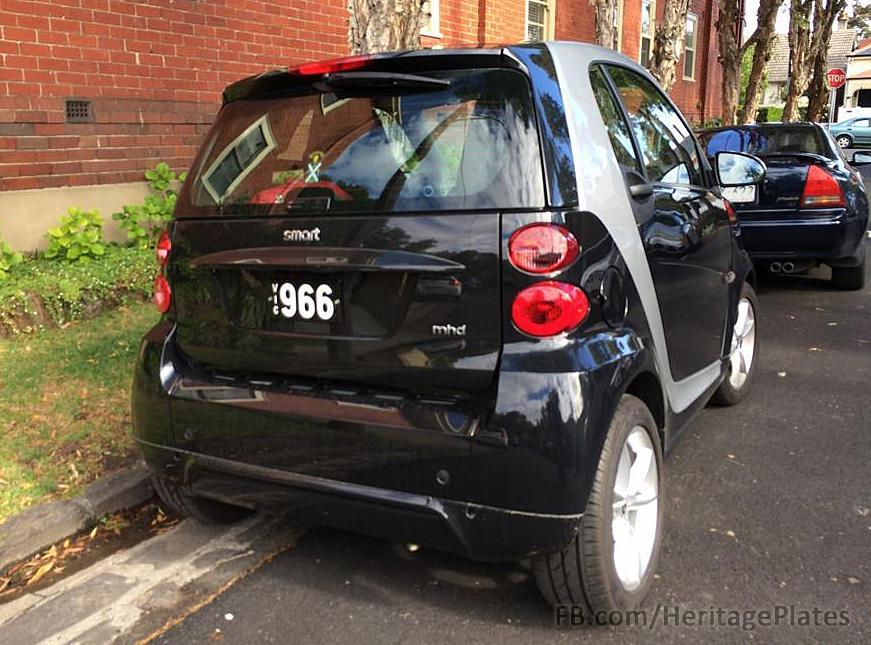bienso: (253, 268, 363, 345)
